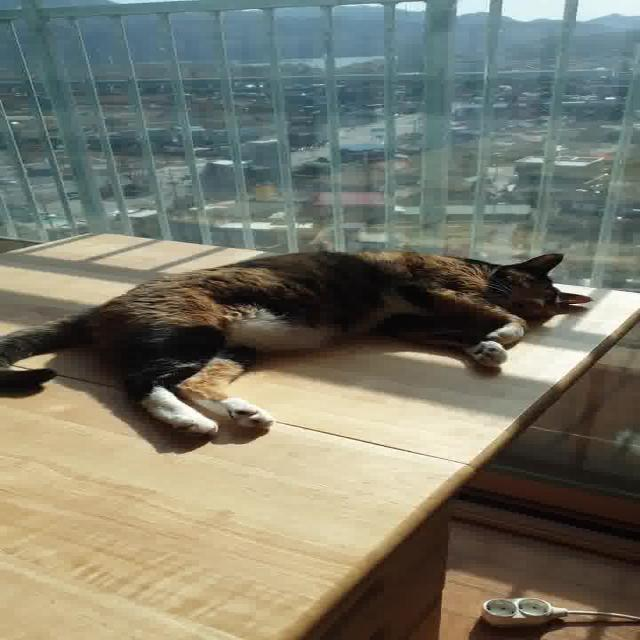cat: (0, 245, 594, 441)
